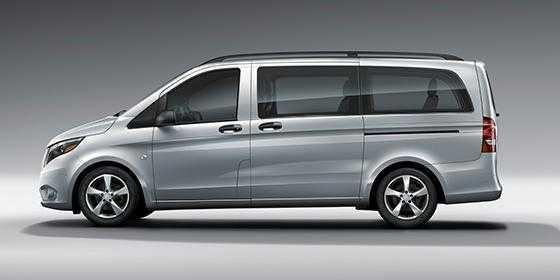car: (32, 52, 503, 231)
